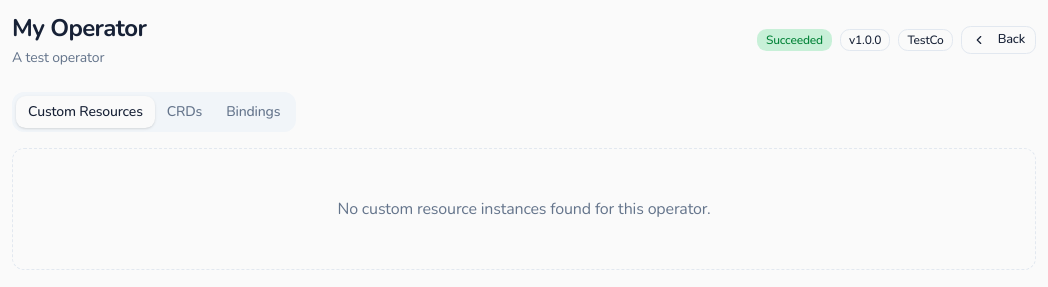
Scenario: OperatorDetailClient › shows empty CRDs message when operator has no CRDs
The width and height of the screenshot is (1048, 287).
Expected: the heading "My Operator" is shown, [12,12,146,44]
Click the tab "CRDs". click: point(185, 112)
box: [155,96,214,128]
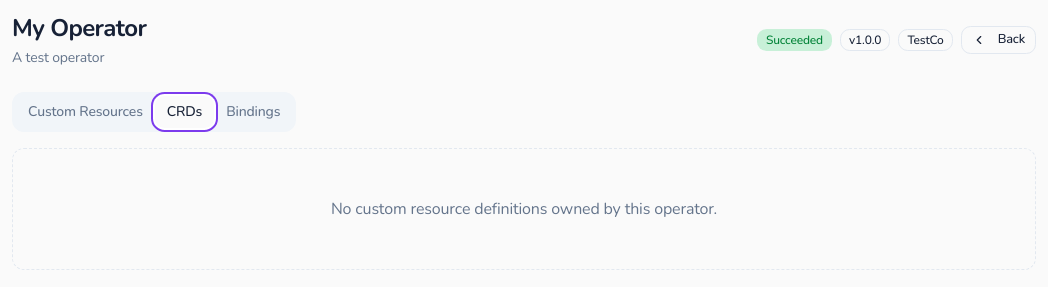
Now the text "No custom resource definitions owned by this operator." is shown, box [12,148,1036,270]
